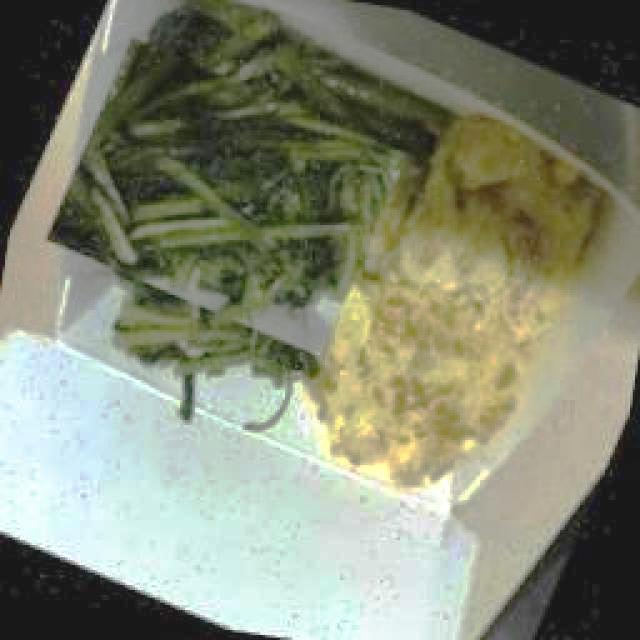curry: (320, 244, 567, 481), (409, 112, 597, 278)
water_spinach: (69, 16, 411, 399)
